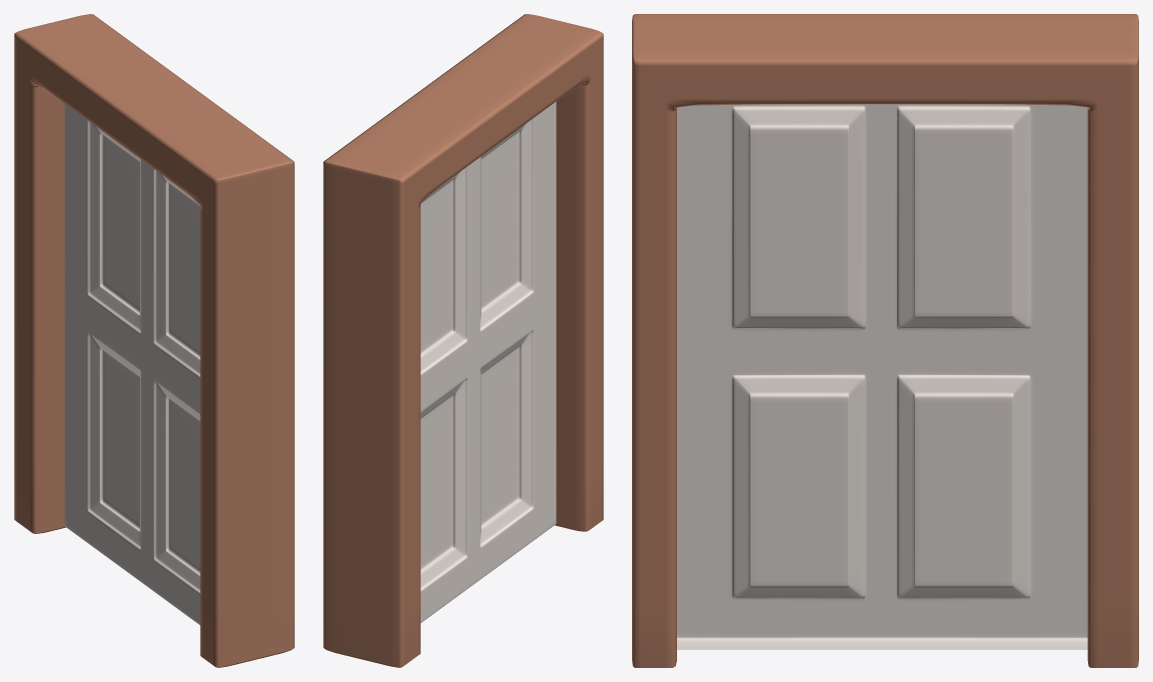
File: door.fbx
3 renders of one model, left to right at view 1: azimuth 30°, elevation 25°; view 2: azimuth 150°, elevation 25°; view 3: azimuth 270°, elevation 25°, orthographic. The views are drawn at different scales.
Parts seen in each view (by area): view 1: objpolymsh; view 2: objpolymsh; view 3: objpolymsh.
Part boxes in pixels (x1,y1,x2,y2): objpolymsh: (14, 14, 294, 667); objpolymsh: (323, 14, 603, 667); objpolymsh: (632, 14, 1138, 667).
Bounding box in the file's own units: 13.58 × 80.45 × 60.54.
